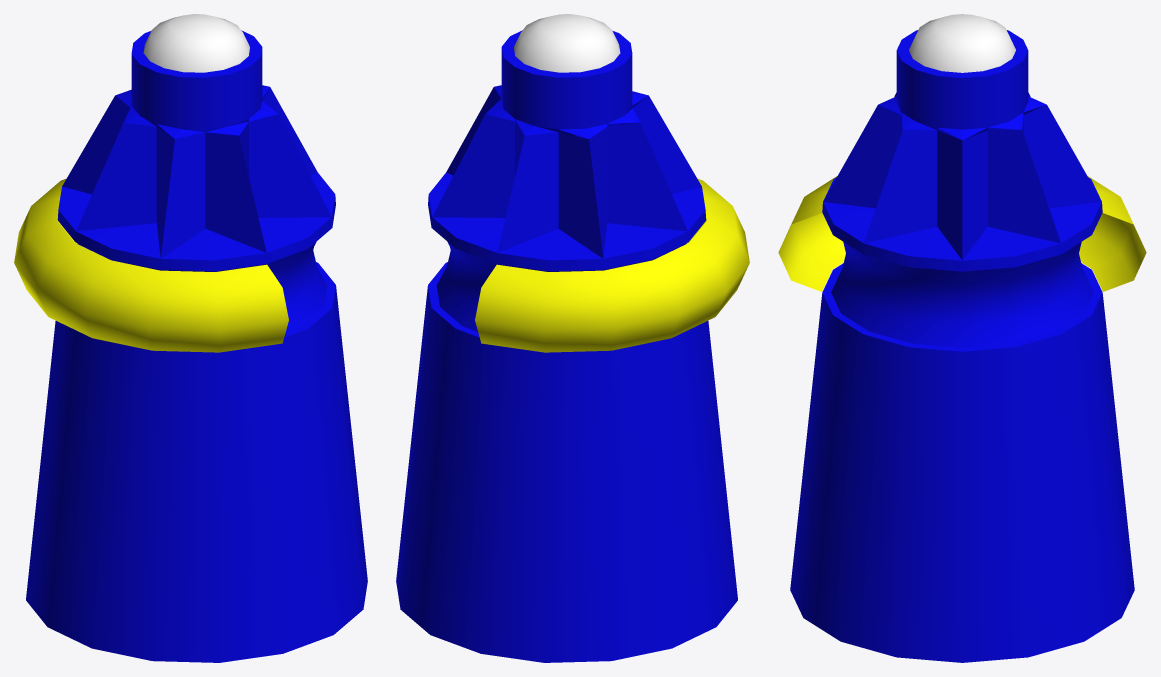
The model's file is SM_PostHalf.FBX.
The picture shows the model from 3 angles, left to right: view 1: azimuth 30°, elevation 25°; view 2: azimuth 150°, elevation 25°; view 3: azimuth 270°, elevation 25°; orthographic projection.
Parts seen in each view (by area): view 1: SM_PostHalf; view 2: SM_PostHalf; view 3: SM_PostHalf.
Part boxes in pixels (box(x1,y1,x2,y2)): SM_PostHalf: box(14, 14, 367, 662); SM_PostHalf: box(396, 14, 749, 662); SM_PostHalf: box(778, 14, 1146, 662).
Bounding box in the file's own units: 59.7 × 61.69 × 105.
